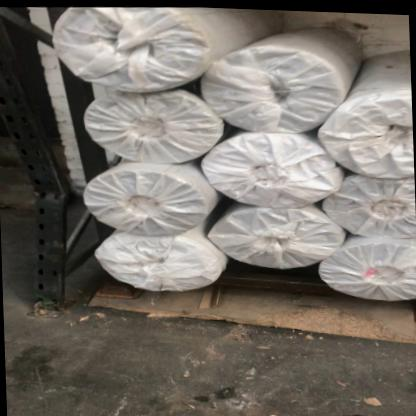vertical_damage: (10, 126, 81, 238)
